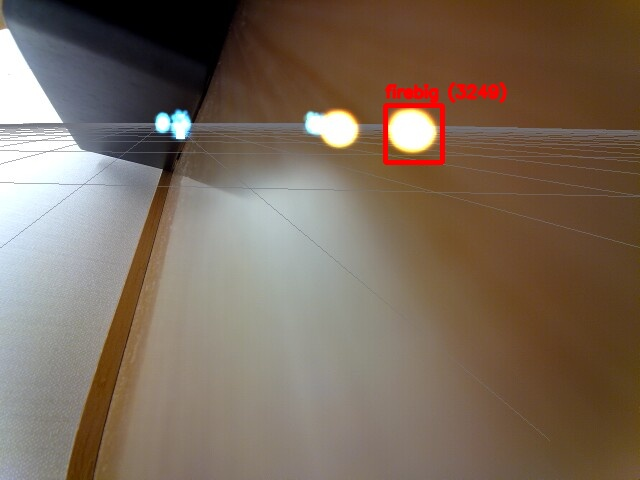firebig: (385, 105, 442, 162)
